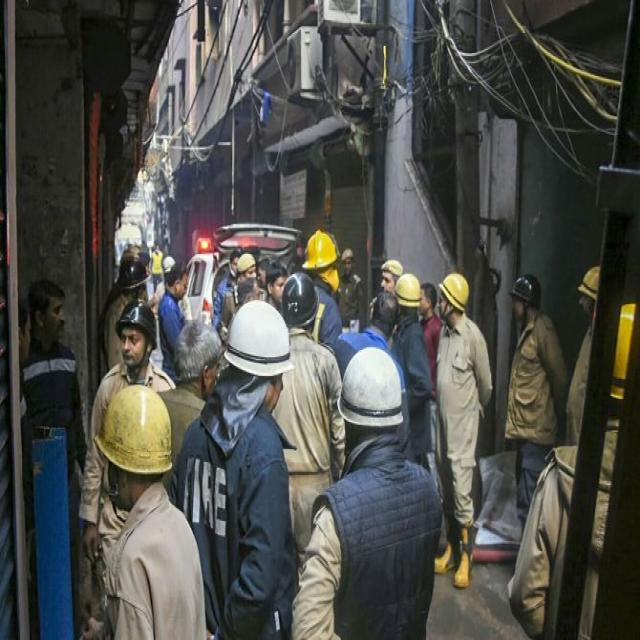safety_helmet: (95, 381, 173, 476), (337, 346, 405, 429), (223, 301, 293, 378), (301, 229, 339, 274), (438, 269, 470, 311), (115, 298, 154, 332), (509, 269, 543, 307), (395, 271, 422, 307), (235, 251, 257, 274), (163, 255, 175, 275)
